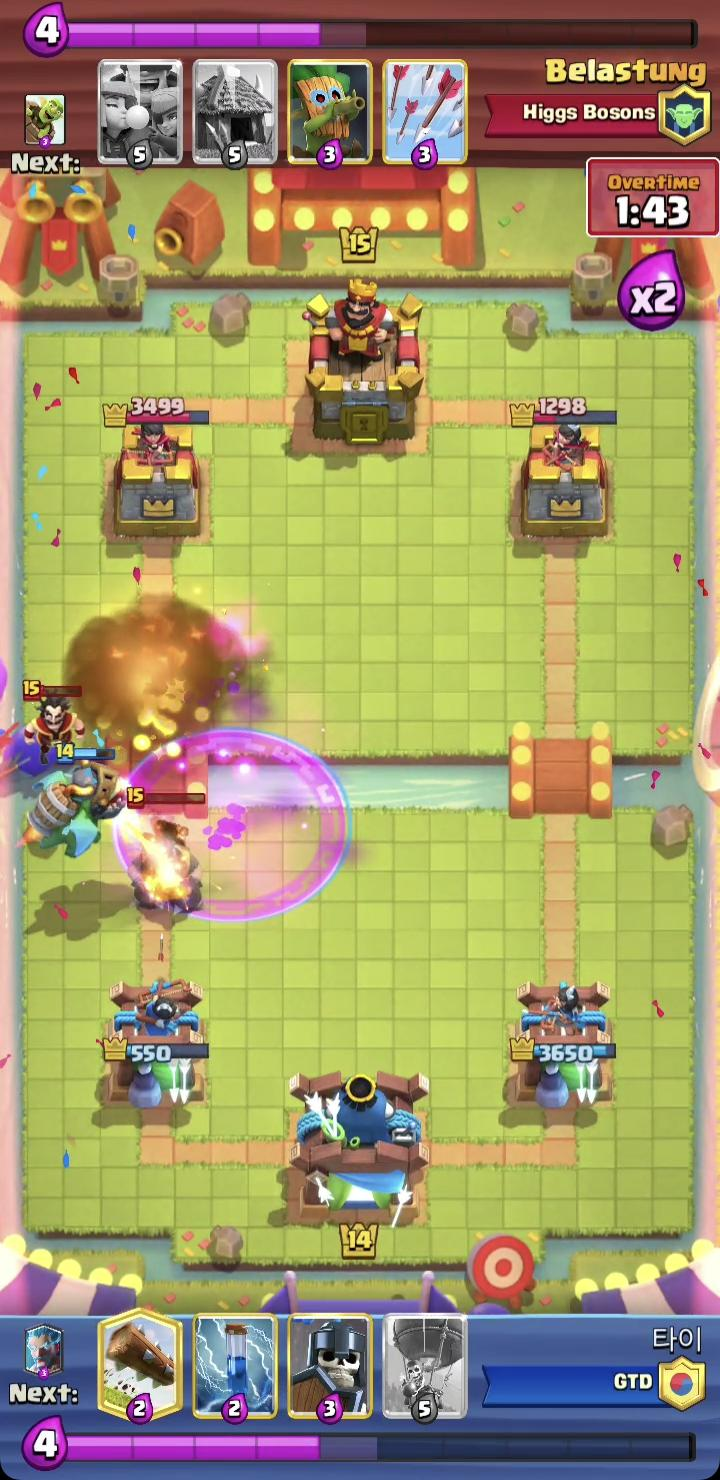ally_infernodragon: (17, 742, 130, 860)
ally_rage: (109, 727, 358, 928)
enemy_electro_wizard: (21, 678, 88, 763)
enemy_mega_knight: (124, 785, 207, 916)
